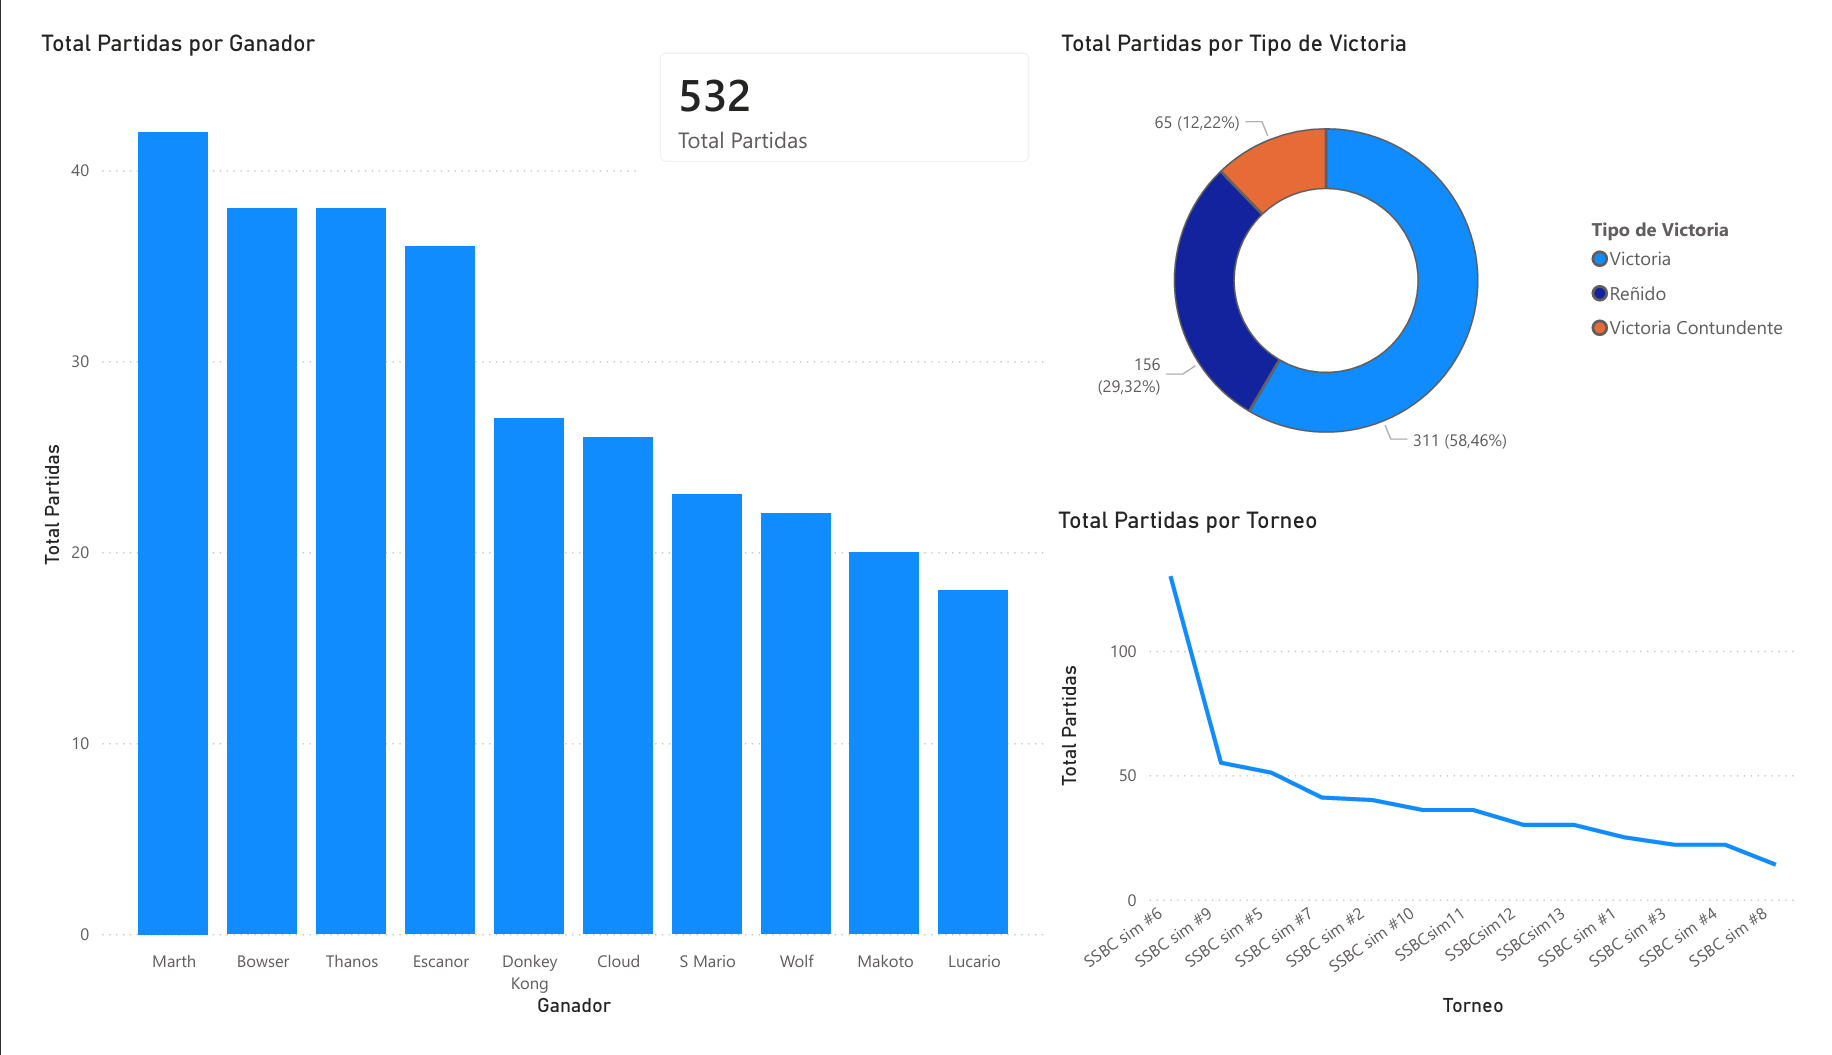

This screenshot's page, from the dashboard's own definition file:
{"tool":"powerbi","page":{"name":"Página 1","canvas":[1280,720],"ordinal":0},"visuals":[{"type":"clusteredColumnChart","fields":{"Category":["master_partidas_limpio.Ganador"],"Y":["master_partidas_limpio.Total Partidas"]},"box":[0,0,736.9,720.4],"z":0},{"type":"donutChart","fields":{"Category":["master_partidas_limpio.Tipo_Victoria"],"Y":["master_partidas_limpio.Total Partidas"]},"box":[737.7,0,542.4,344.6],"z":1000},{"type":"lineChart","fields":{"Category":["master_partidas_limpio.Torneo"],"Y":["master_partidas_limpio.Total Partidas"]},"box":[736.4,344.6,543.6,375.7],"z":2000},{"type":"cardVisual","fields":{"Data":["master_partidas_limpio.Total Partidas"]},"box":[436.4,0,300.6,112.7],"z":3000}]}

Visuals, with their boxes in screenshot pixels (x1, y1, x2, y2), scaled from the page's 1280x720 canvas onto the 1832x1055 screenshot:
clusteredColumnChart - master_partidas_limpio.Ganador x master_partidas_limpio.Total Partidas: <box>0,0,1055,1054</box>
donutChart - master_partidas_limpio.Tipo_Victoria x master_partidas_limpio.Total Partidas: <box>1056,0,1831,505</box>
lineChart - master_partidas_limpio.Torneo x master_partidas_limpio.Total Partidas: <box>1054,505,1831,1054</box>
cardVisual - master_partidas_limpio.Total Partidas: <box>625,0,1055,165</box>
